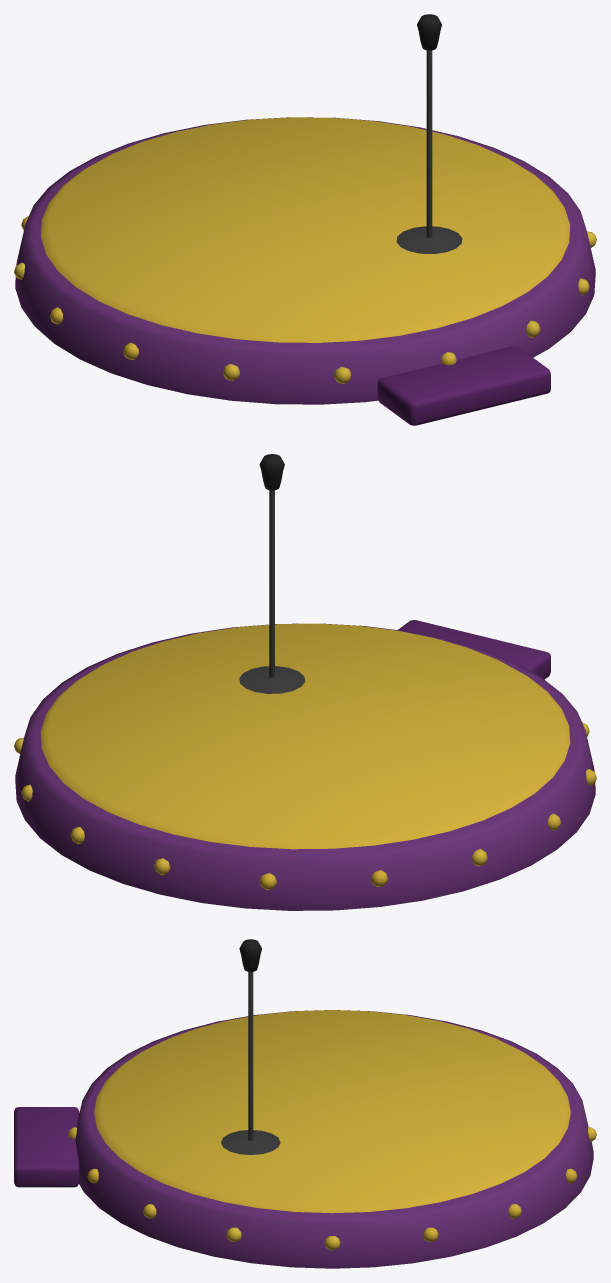
Rendered from fe-folk-stage.glb.
3 renders of one model, top to bottom at view 1: azimuth 30°, elevation 25°; view 2: azimuth 150°, elevation 25°; view 3: azimuth 270°, elevation 25°, orthographic. The views are drawn at different scales.
Parts seen in each view (by area): view 1: fe-folk-stage; view 2: fe-folk-stage; view 3: fe-folk-stage.
Part boxes in pixels (x1,y1,x2,y2): fe-folk-stage: [14, 14, 596, 425]; fe-folk-stage: [14, 454, 596, 910]; fe-folk-stage: [14, 939, 596, 1268].
Bounding box in the file's own units: 3.24 × 1.7 × 3.57.
